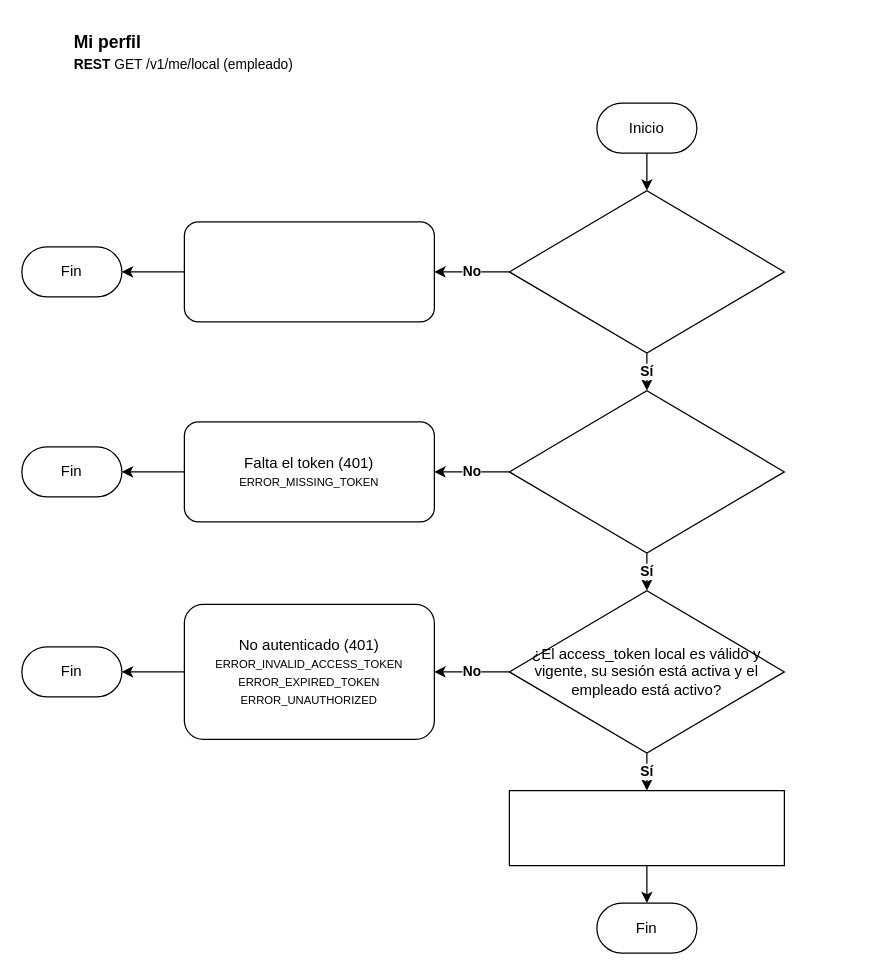
Image size: 894x975. Some labels were removed from this diagram. The centre of each missing label's shape, as x and y in pixels:
Responder 200 con el mensaje USER_RETRIEVED: (x=646, y=827)
Servidor sin emparejar (409) ERROR_SERVER_NOT_PAIRED: (x=308, y=271)
¿El servidor ya se emparejó alguna vez (pairing_status distinto de unpaired)?: (x=646, y=271)
¿Trae Authorization: Bearer?: (x=646, y=471)
